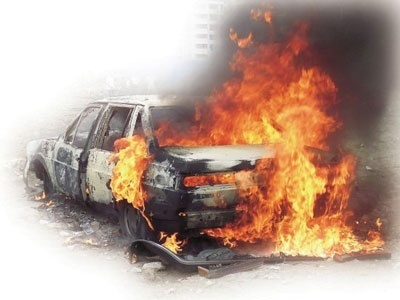fire: (114, 24, 382, 258)
